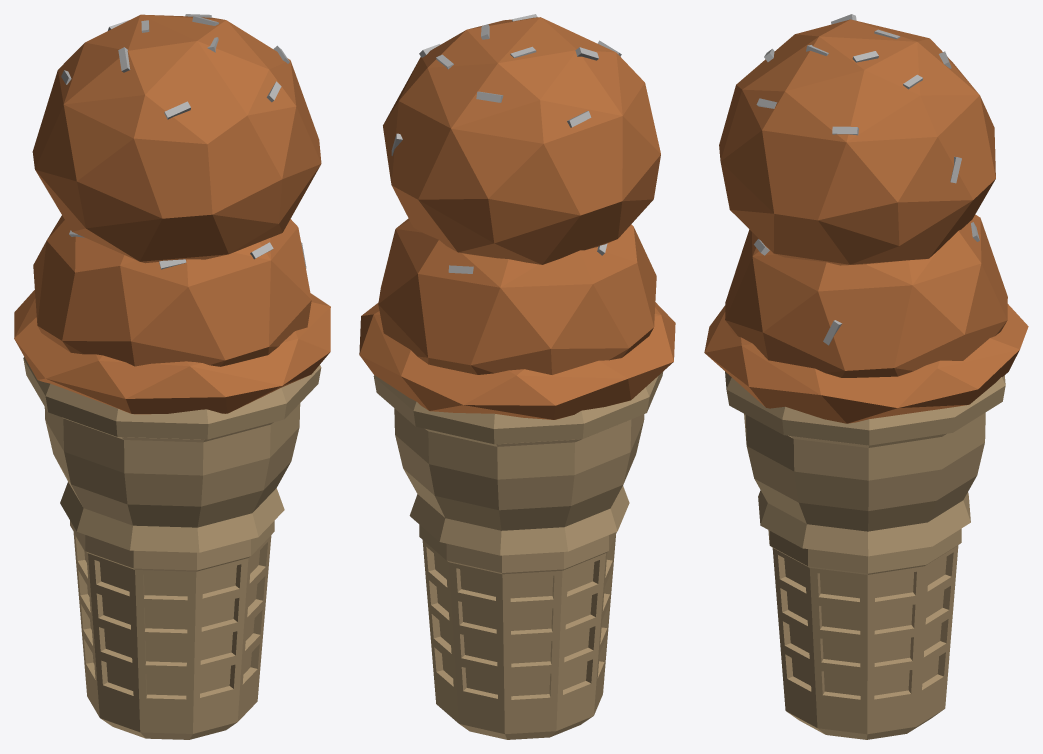
The model's file is IceCream_4.glb.
The picture shows the model from 3 angles, left to right: view 1: azimuth 30°, elevation 25°; view 2: azimuth 150°, elevation 25°; view 3: azimuth 270°, elevation 25°; orthographic projection.
Visible parts, largest first — view 1: IceCream_4; view 2: IceCream_4; view 3: IceCream_4.
Part boxes in pixels (bbox=[...]): IceCream_4: bbox=[14, 14, 330, 739]; IceCream_4: bbox=[359, 14, 675, 739]; IceCream_4: bbox=[704, 14, 1028, 739].
Size of the model in its own units: 0.5155 by 1.18 by 0.5155.
